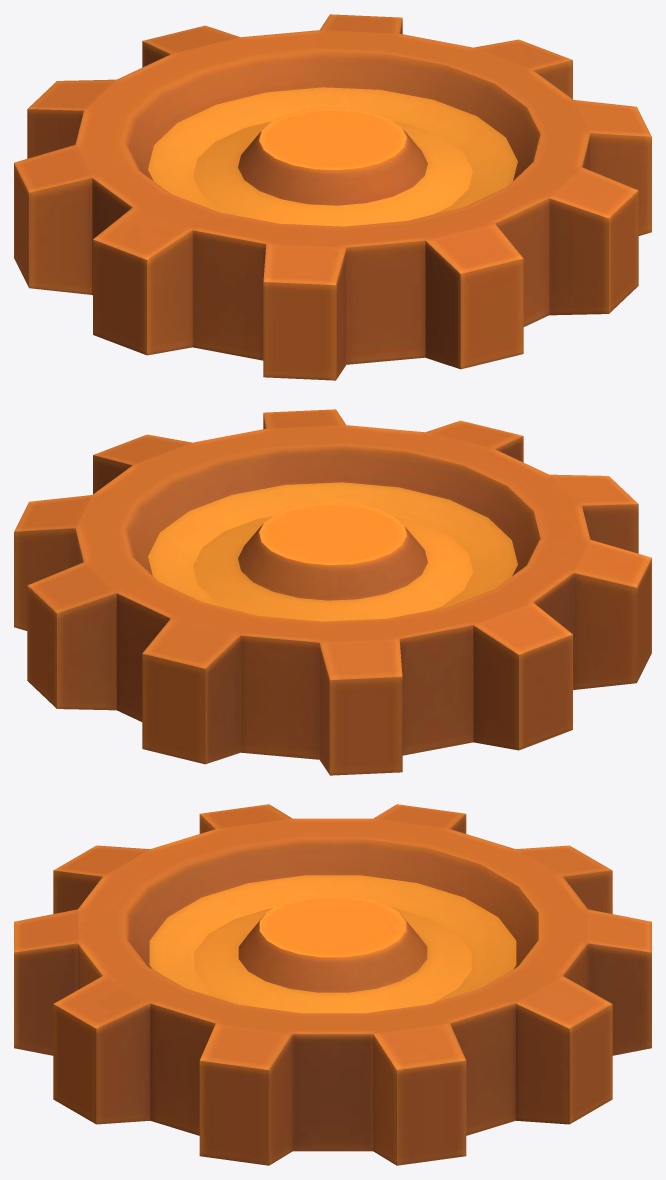
Rendered from obj_gear04_base.gltf.
3 views of the same model, one above another, from view 1: azimuth 30°, elevation 25°; view 2: azimuth 150°, elevation 25°; view 3: azimuth 270°, elevation 25° (orthographic).
Visible parts, largest first — view 1: obj_gear04_base; view 2: obj_gear04_base; view 3: obj_gear04_base.
Boxes of the visible parts, x1=… form: obj_gear04_base: x1=14, y1=14, x2=651, y2=380; obj_gear04_base: x1=14, y1=409, x2=651, y2=775; obj_gear04_base: x1=14, y1=804, x2=651, y2=1165.
Size of what is drawn, in the model's own units: 0.3402 by 0.0699 by 0.3449.
1 material, 1 textured.
